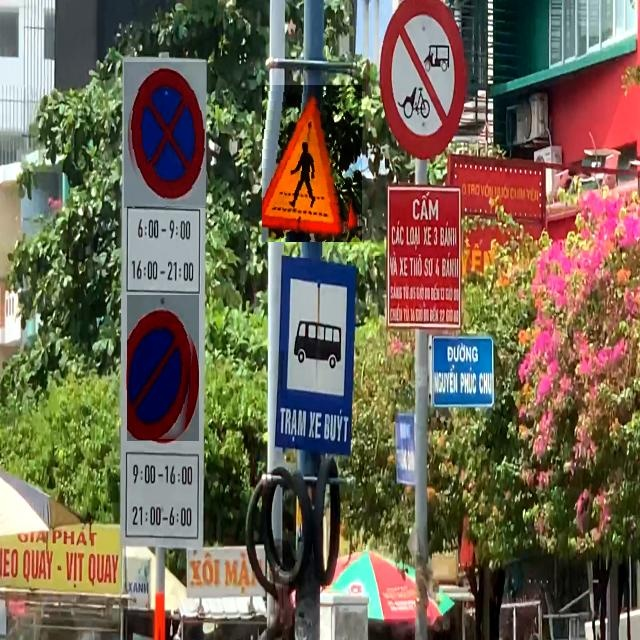bien_cam: (262, 85, 362, 242), (124, 62, 206, 208), (127, 295, 199, 441)
